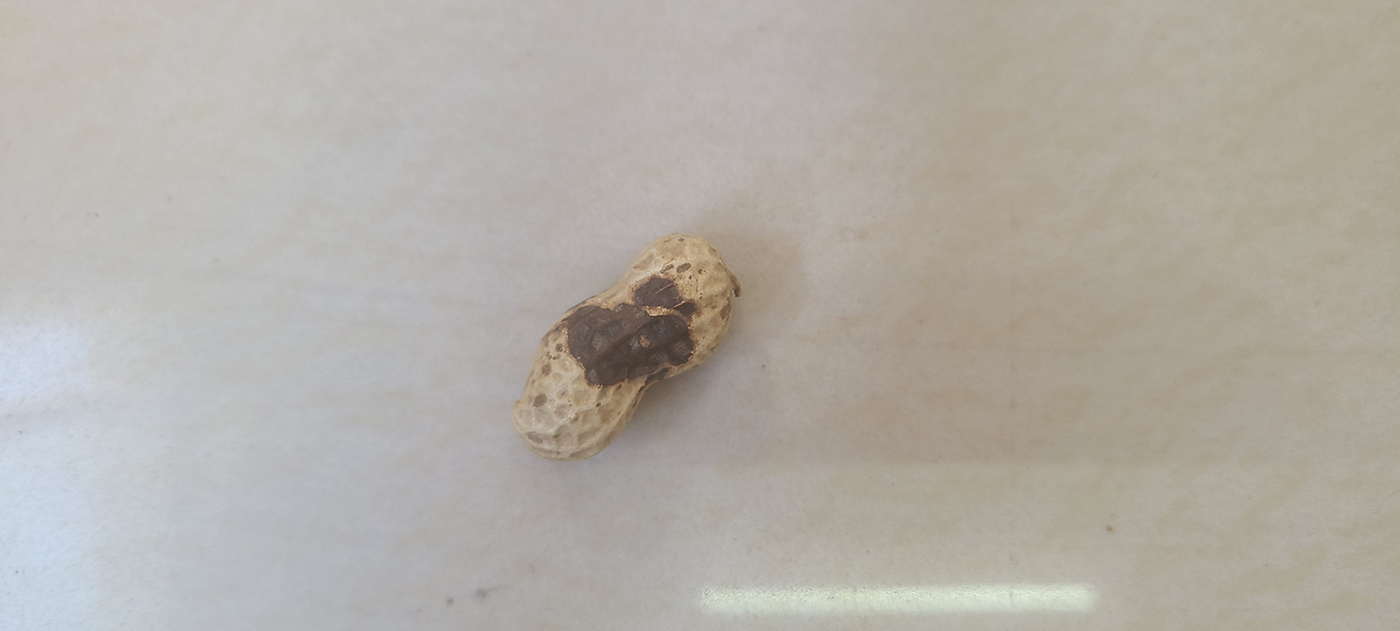l: (506, 233, 739, 459)
